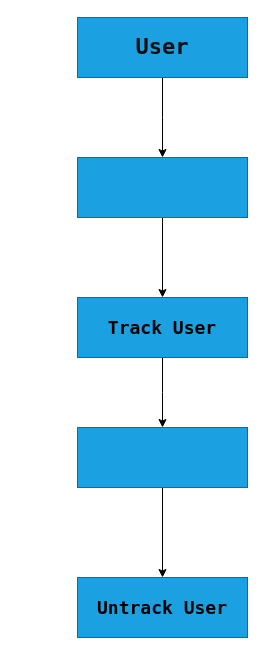
This 265x655 diagram has some shape labels left out. Here are the shapes that lost their labels. From the top down, the box of each, then its label:
(76, 156, 248, 218): Reservation
(76, 426, 248, 488): Return Book
